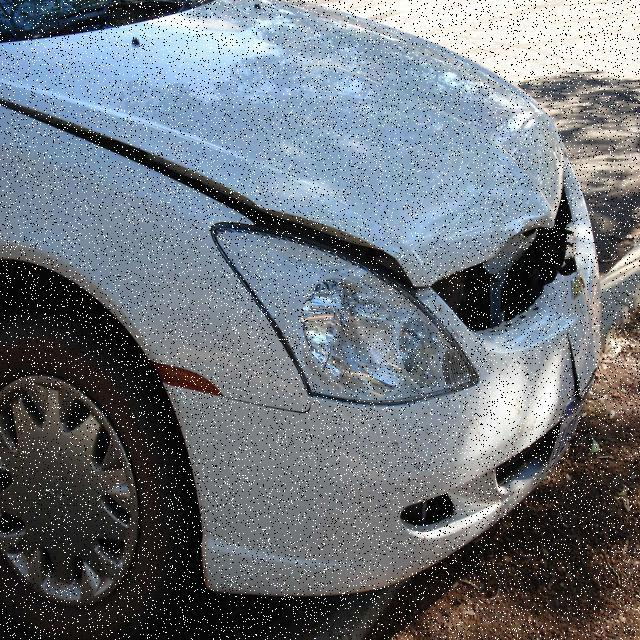front-bumper-dent: (386, 285, 610, 504)
